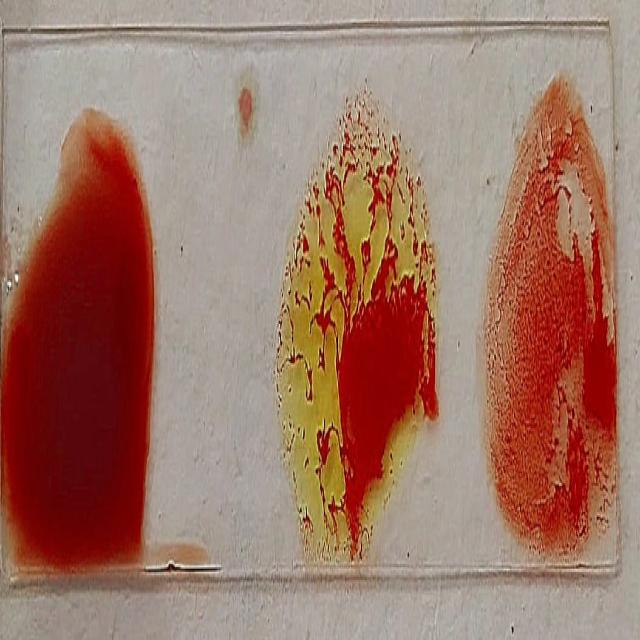B: (282, 105, 433, 566), (486, 86, 615, 557)
